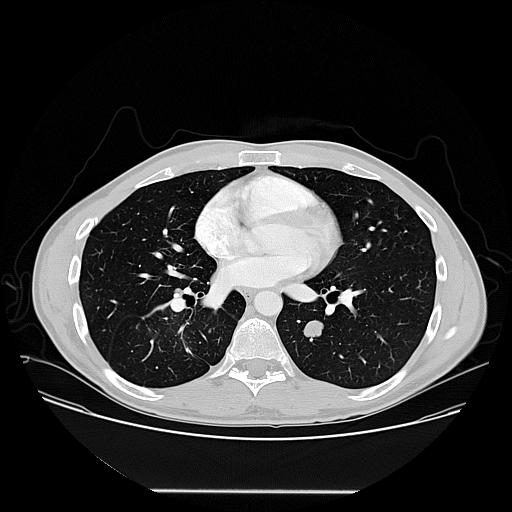nodule: (301, 317, 325, 341)
